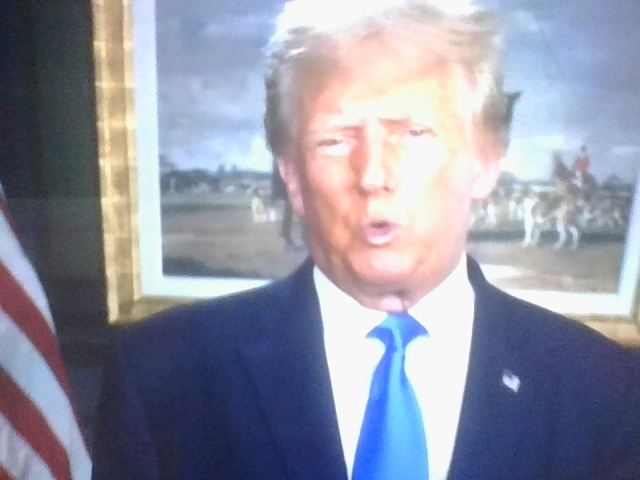fake: (270, 0, 501, 328)
